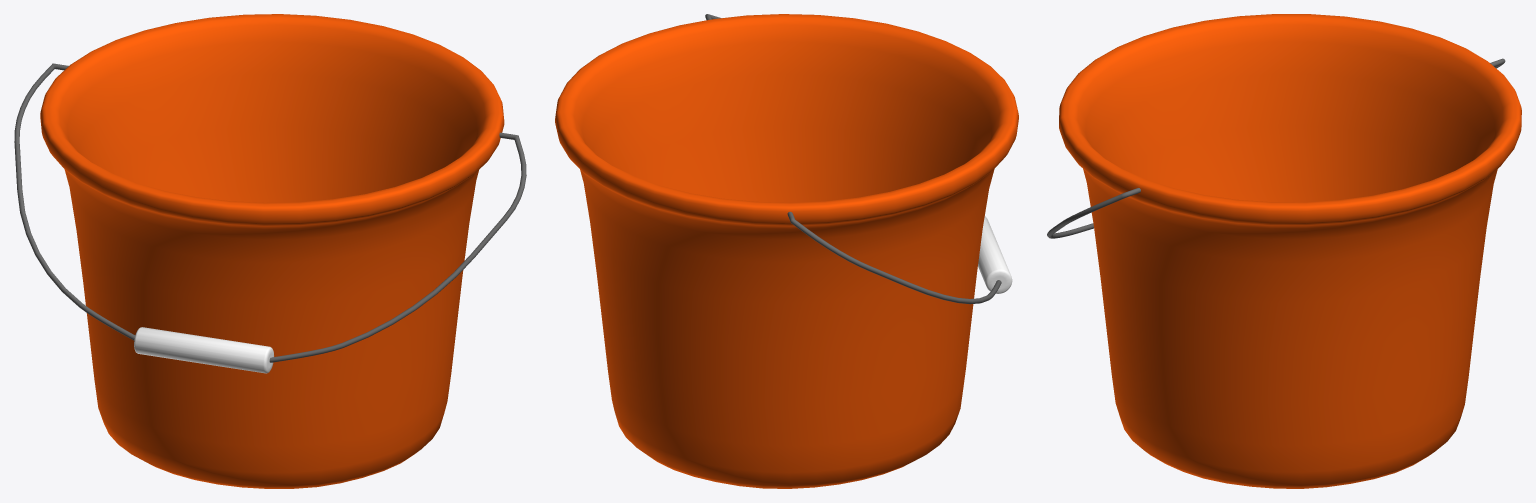
Rendered from Bucket.fbx.
3 renders of one model, left to right at view 1: azimuth 30°, elevation 25°; view 2: azimuth 150°, elevation 25°; view 3: azimuth 270°, elevation 25°, orthographic.
Parts seen in each view (by area): view 1: Bucket; view 2: Bucket; view 3: Bucket.
Part boxes in pixels (x1,y1,x2,y2): Bucket: (14, 14, 526, 488); Bucket: (555, 14, 1018, 488); Bucket: (1047, 14, 1521, 488).
Size of the model in its own units: 71.16 by 52.62 by 72.18.
